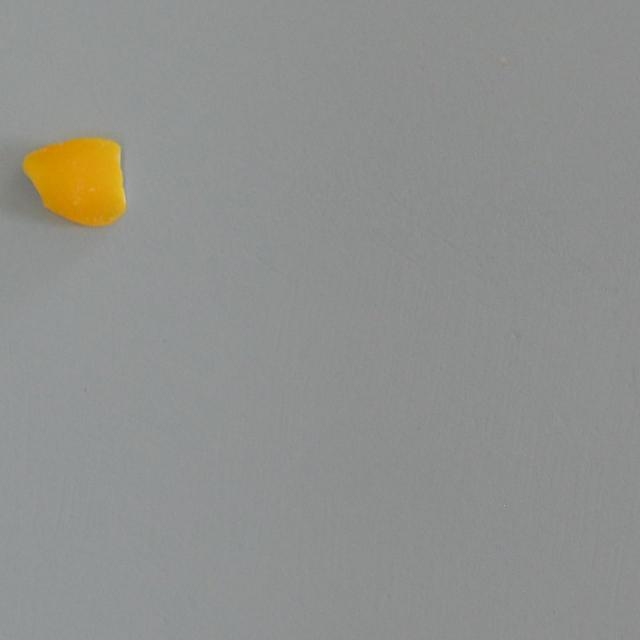estandar: (13, 132, 135, 236)
